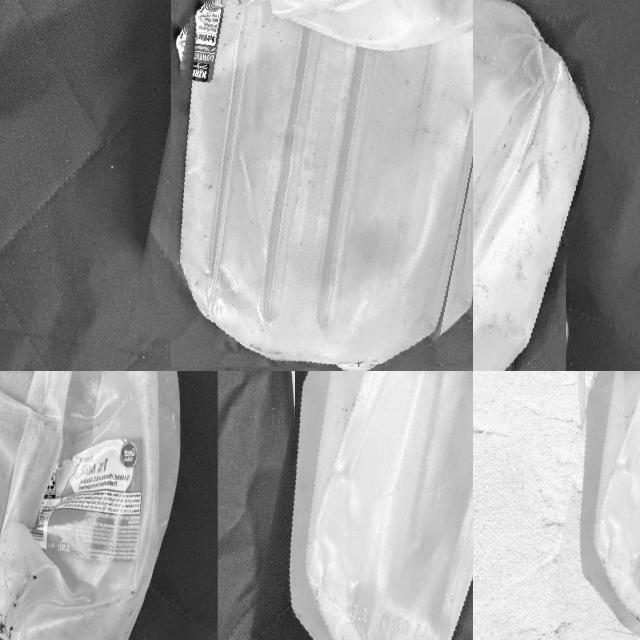milk-jug: (150, 0, 473, 371), (270, 371, 473, 640), (0, 371, 179, 640), (473, 0, 590, 371), (565, 371, 640, 640)
